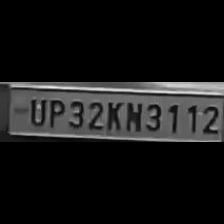1: (163, 102, 181, 134), (182, 102, 198, 134)
2: (198, 102, 220, 134), (84, 98, 104, 132)
3: (142, 100, 162, 134), (64, 97, 84, 129)
K: (104, 100, 122, 132)
N: (122, 99, 142, 133)
P: (44, 96, 64, 128)
U: (26, 96, 46, 127)
